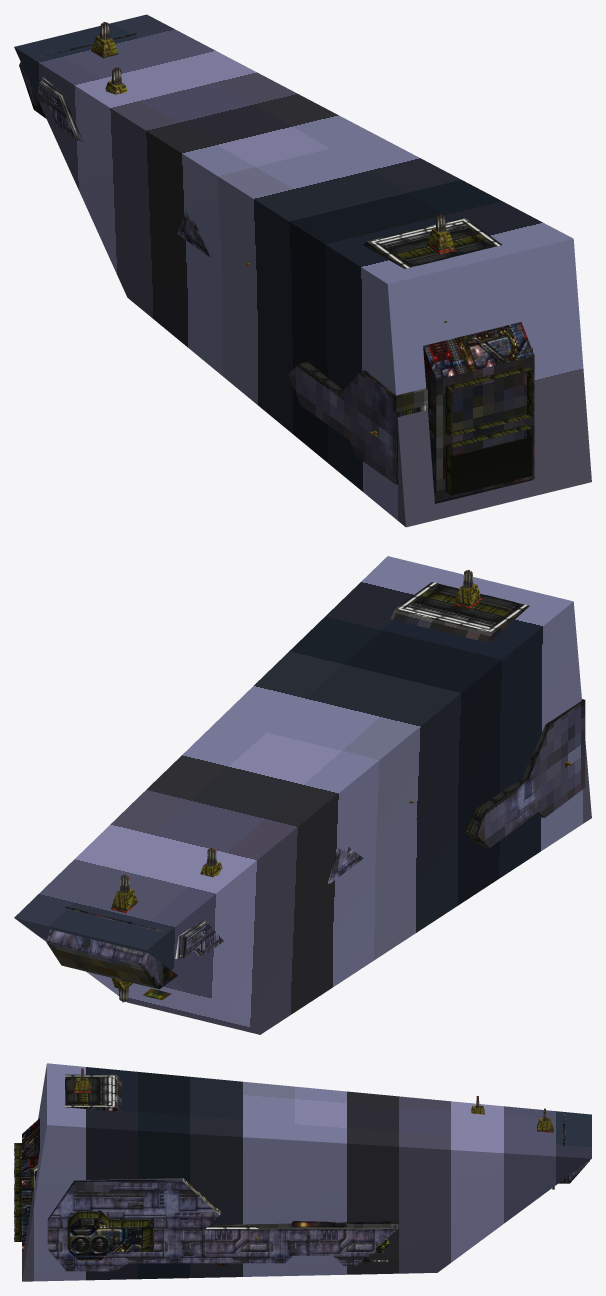
File: capital01.dae
3 renders of one model, top to bottom at view 1: azimuth 30°, elevation 25°; view 2: azimuth 150°, elevation 25°; view 3: azimuth 270°, elevation 25°, orthographic. The views are drawn at different scales.
Parts seen in each view (by area): view 1: detail3, detail2, detail0, detail1; view 2: detail3, detail2, detail0, detail1; view 3: detail3, detail0, detail2, detail1, debris03.
Boxes of the visible parts, bbox=[...] form: detail3: bbox=[14, 14, 591, 527]; detail2: bbox=[19, 63, 534, 503]; detail0: bbox=[37, 33, 534, 495]; detail1: bbox=[19, 33, 532, 502]; detail3: bbox=[14, 556, 591, 1034]; detail2: bbox=[47, 583, 585, 989]; detail0: bbox=[46, 582, 572, 995]; detail1: bbox=[65, 582, 573, 1000]; detail3: bbox=[22, 1063, 591, 1281]; detail0: bbox=[14, 1075, 589, 1271]; detail2: bbox=[22, 1074, 588, 1270]; detail1: bbox=[32, 1074, 565, 1257]; debris03: bbox=[291, 1221, 346, 1227].
Bounding box in the file's own units: 607 × 2020 × 735.
